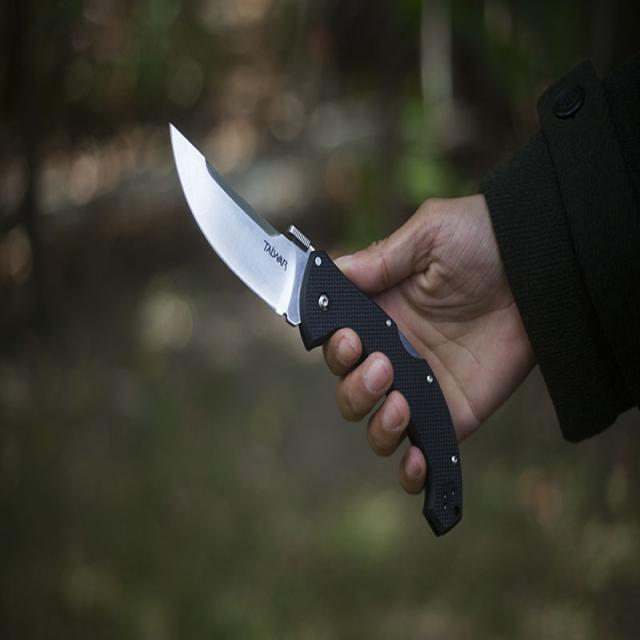knife: (167, 109, 472, 537)
